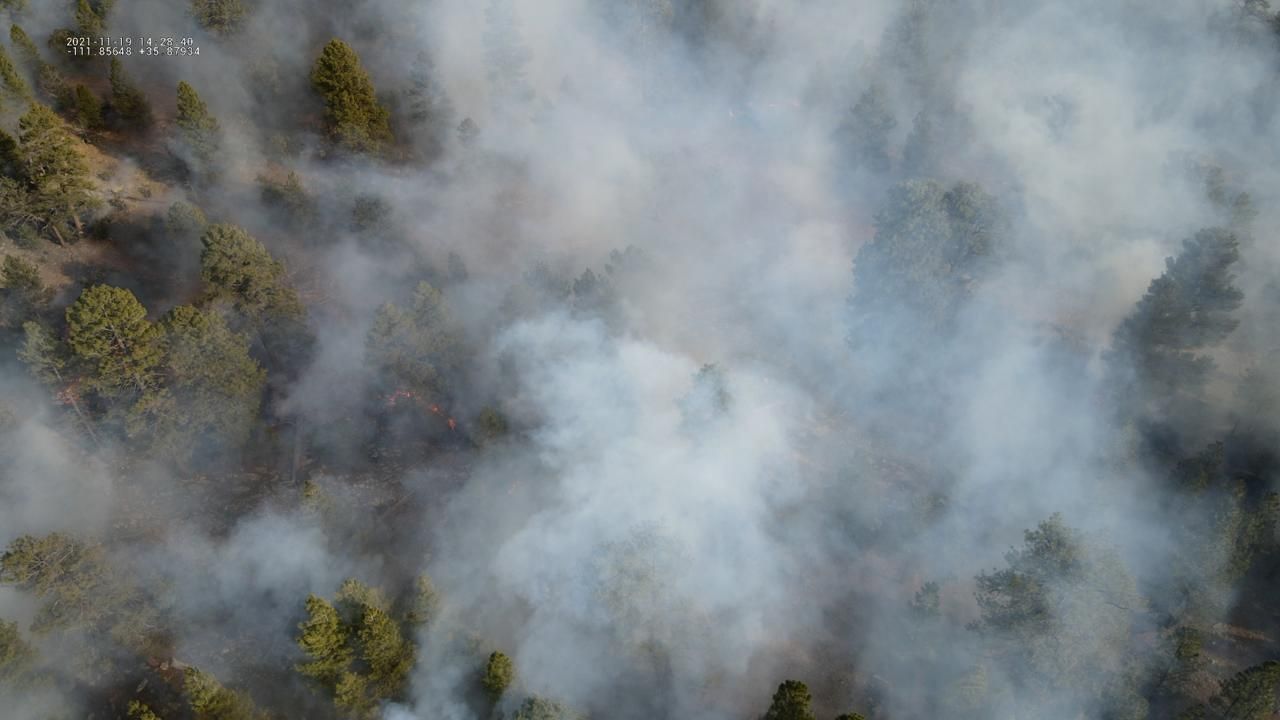fire: (53, 380, 80, 407), (416, 396, 444, 417), (383, 389, 411, 406), (448, 417, 458, 432)
smoke: (0, 0, 1280, 720)
